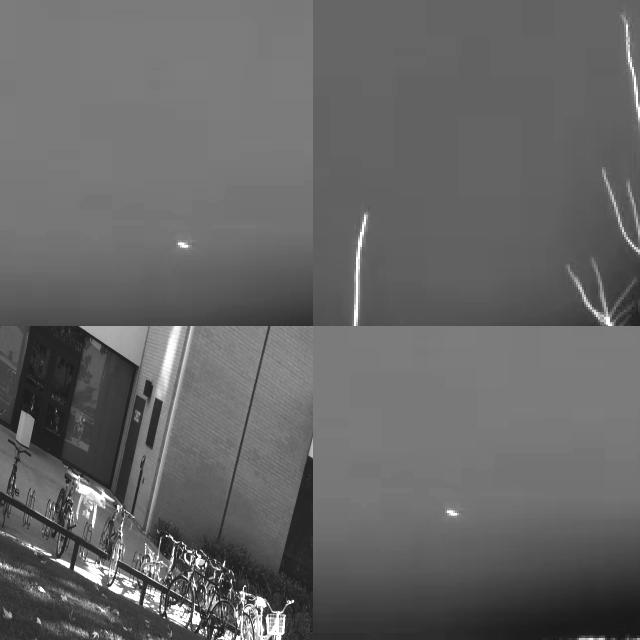1: (436, 500, 468, 536), (167, 234, 199, 266)
drone: (65, 481, 116, 527)
